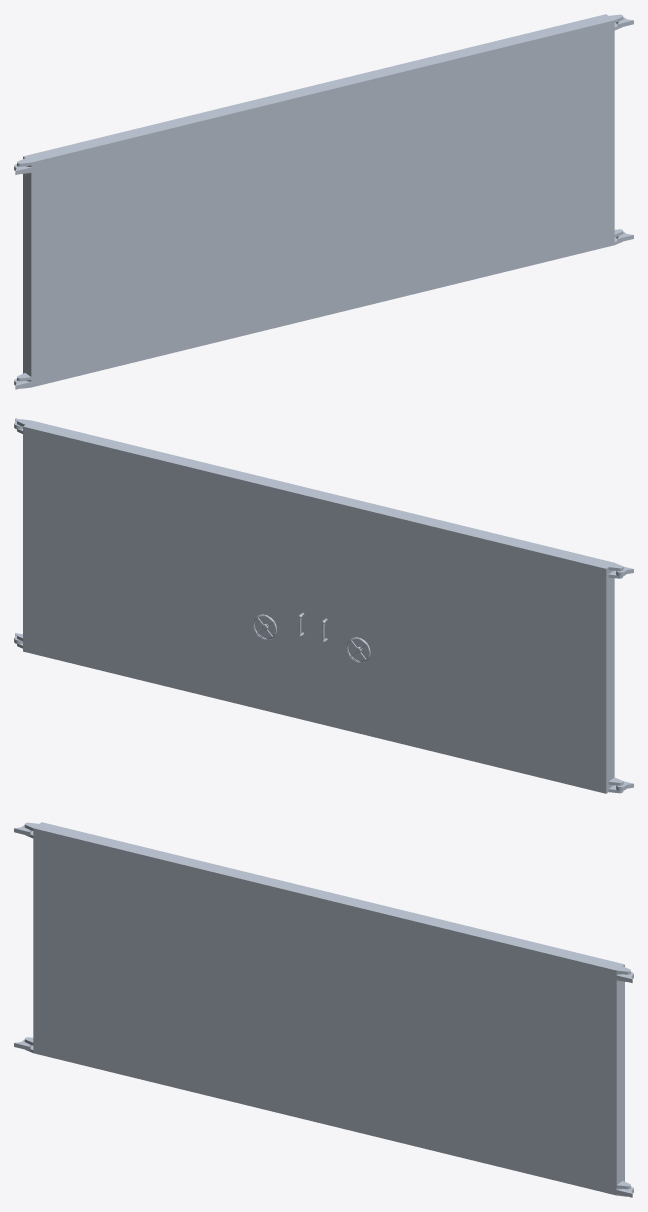
The picture shows the model from 3 angles, top to bottom: view 1: azimuth 30°, elevation 25°; view 2: azimuth 150°, elevation 25°; view 3: azimuth 330°, elevation 25°; orthographic projection.
Bounding box in the file's own units: 21.72 × 7.55 × 0.8191.
